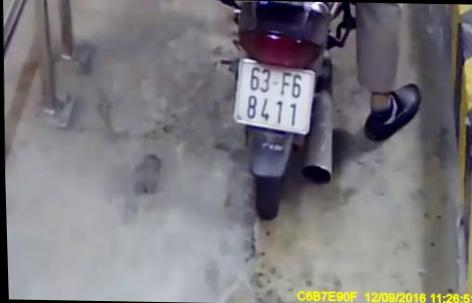LP: (226, 55, 320, 144)
